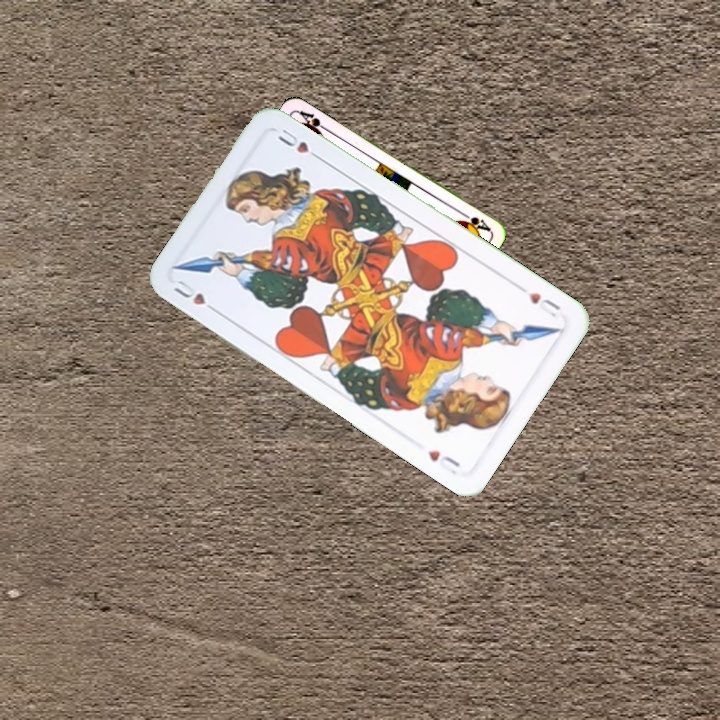HU: (169, 276, 222, 316), (524, 288, 564, 320)
SA: (455, 207, 492, 234)
